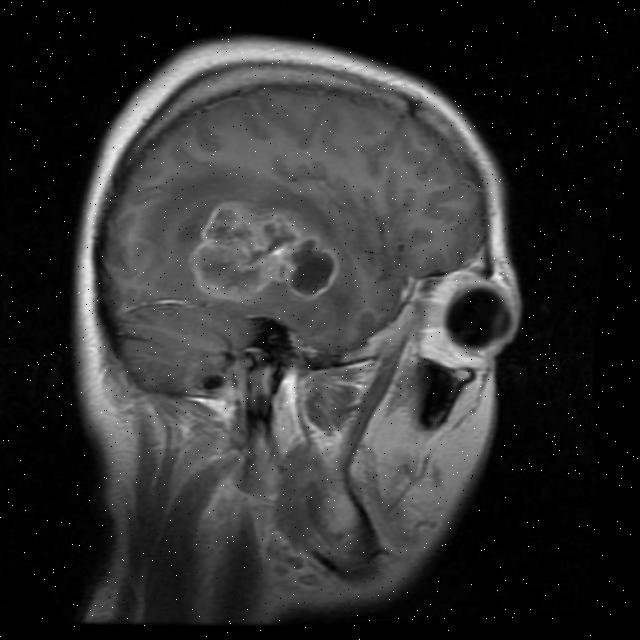Glioma: (184, 193, 347, 310)
